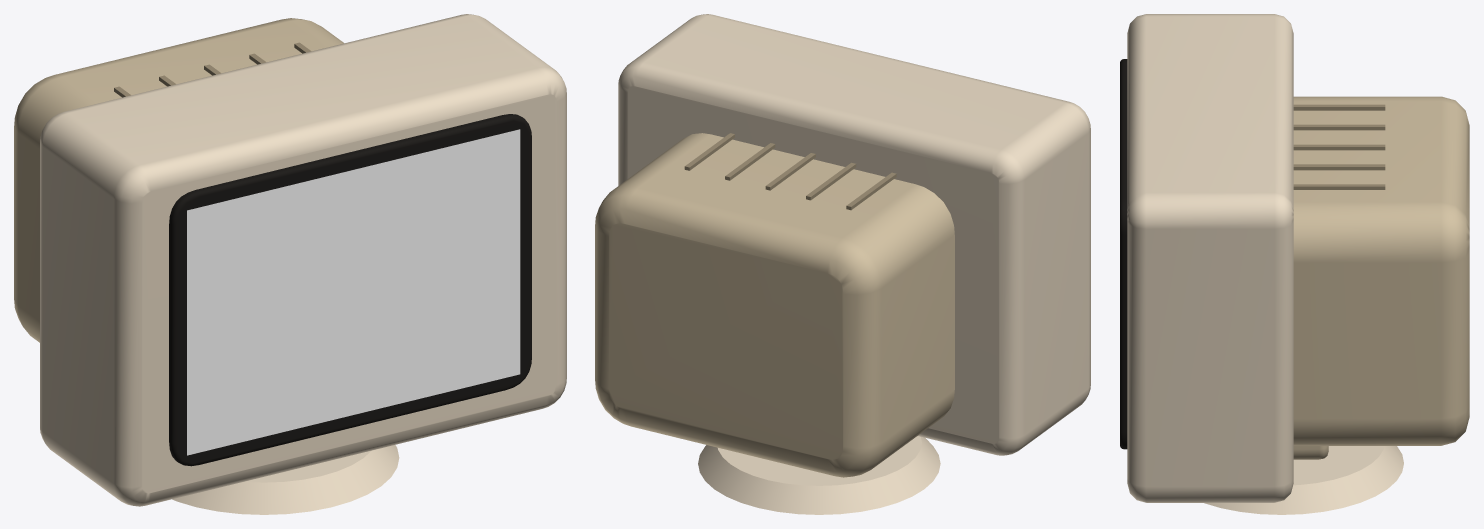
File: crt.glb
3 renders of one model, left to right at view 1: azimuth 30°, elevation 25°; view 2: azimuth 150°, elevation 25°; view 3: azimuth 270°, elevation 25°, orthographic. The views are drawn at different scales.
Visible parts, largest first — view 1: Beige, Screen, Bezel, Back; view 2: Back, Beige, Vent; view 3: Beige, Back, Vent, Bezel.
Boxes of the visible parts, <box> form: Beige: <box>40,14,566,514</box>; Screen: <box>187,129,520,455</box>; Bezel: <box>169,114,531,466</box>; Back: <box>14,18,343,342</box>; Back: <box>595,133,954,477</box>; Beige: <box>618,14,1090,514</box>; Vent: <box>684,133,896,210</box>; Beige: <box>1127,14,1403,514</box>; Back: <box>1293,96,1469,459</box>; Vent: <box>1293,104,1385,189</box>; Bezel: <box>1120,59,1127,449</box>.
Size of the model in its own units: 0.5 by 0.42 by 0.3718.
